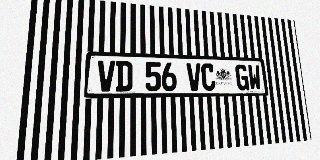5: (145, 62, 161, 91)
6: (161, 62, 177, 91)
C: (201, 63, 216, 91)
D: (115, 61, 132, 91)
G: (235, 64, 249, 90)
V: (97, 60, 115, 92), (186, 63, 202, 91)
W: (247, 65, 262, 90)
